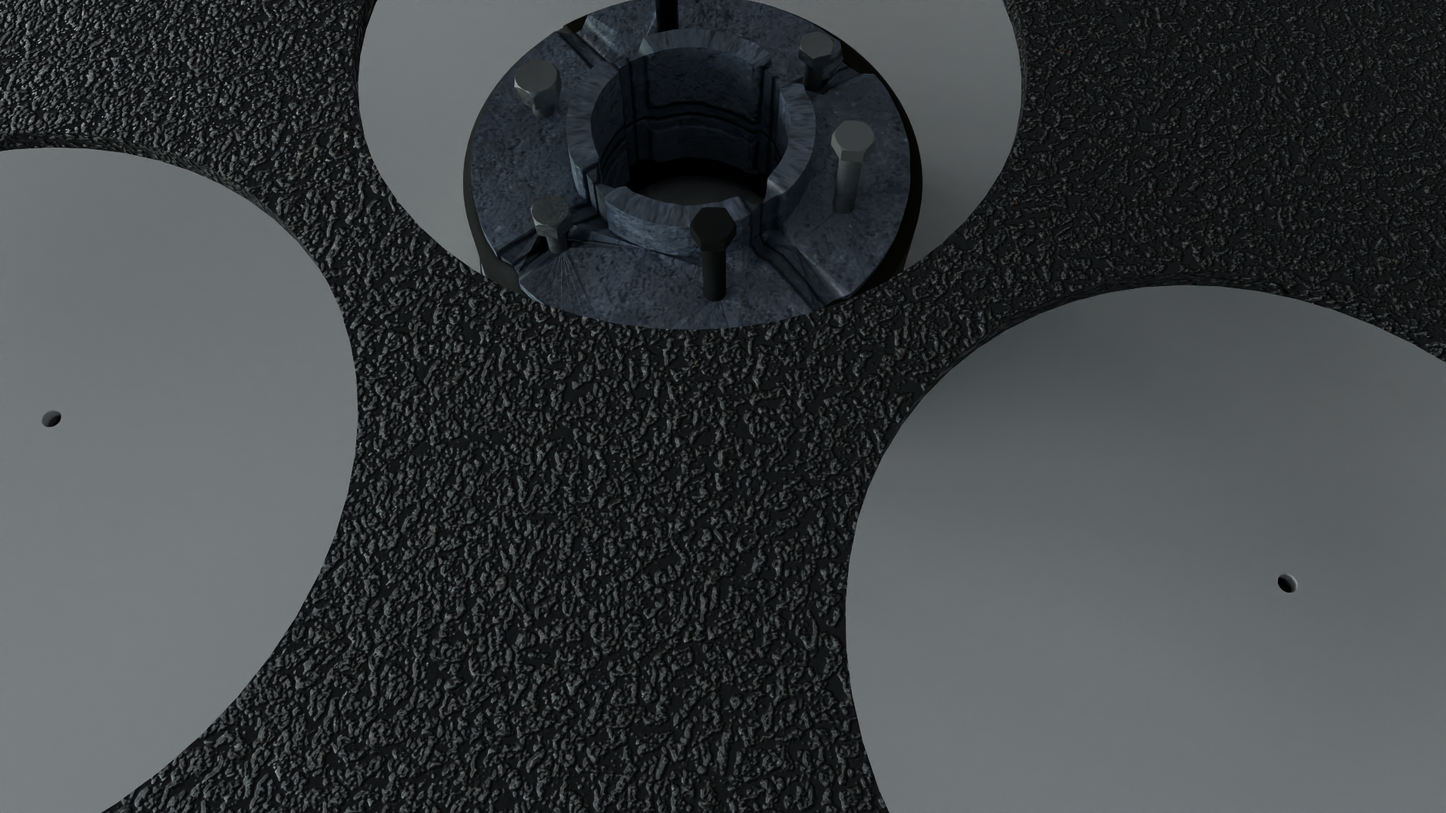bolt: (514, 59, 560, 98), (690, 207, 737, 242), (832, 120, 877, 153), (530, 195, 572, 230), (799, 31, 834, 59)
